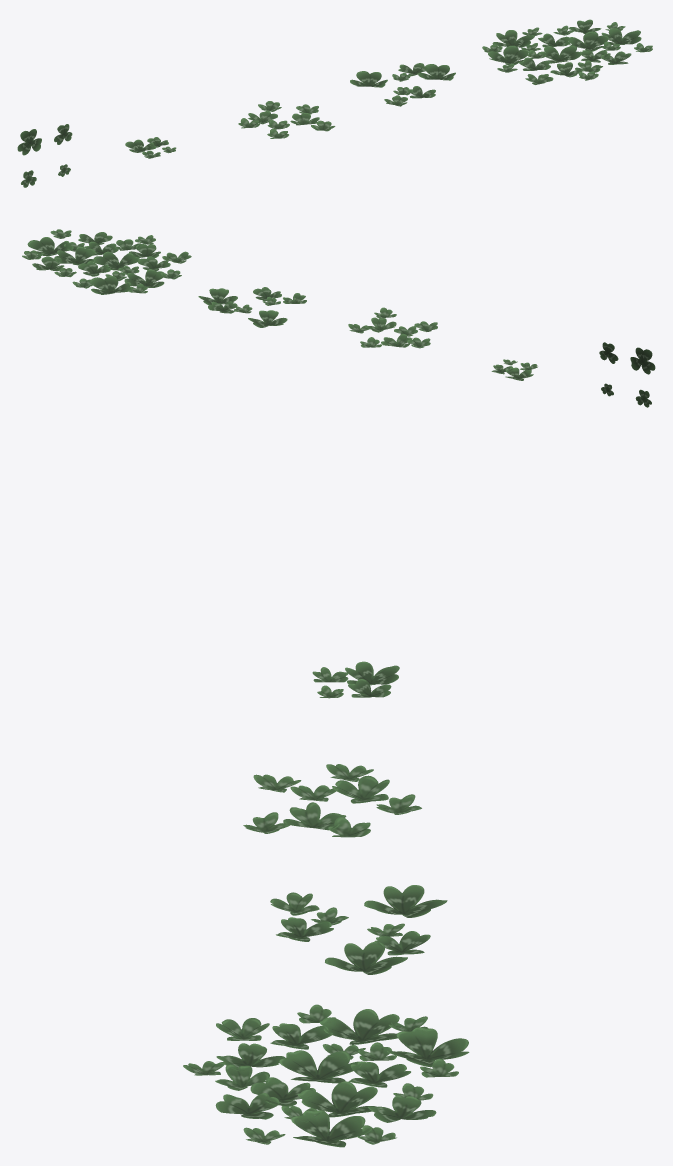
File: shrub_02.glb
The picture shows the model from 3 angles, top to bottom: view 1: azimuth 30°, elevation 25°; view 2: azimuth 150°, elevation 25°; view 3: azimuth 270°, elevation 25°; orthographic projection. The views are drawn at different scales.
Visible parts, largest first — view 1: shrub_02; view 2: shrub_02; view 3: shrub_02.
Boxes of the visible parts, <box> form: shrub_02: <box>17,19,652,187</box>; shrub_02: <box>22,229,655,407</box>; shrub_02: <box>183,661,469,1147</box>.
Size of the model in its own units: 26.08 by 2.5 by 5.84.
1 material, 1 textured.
